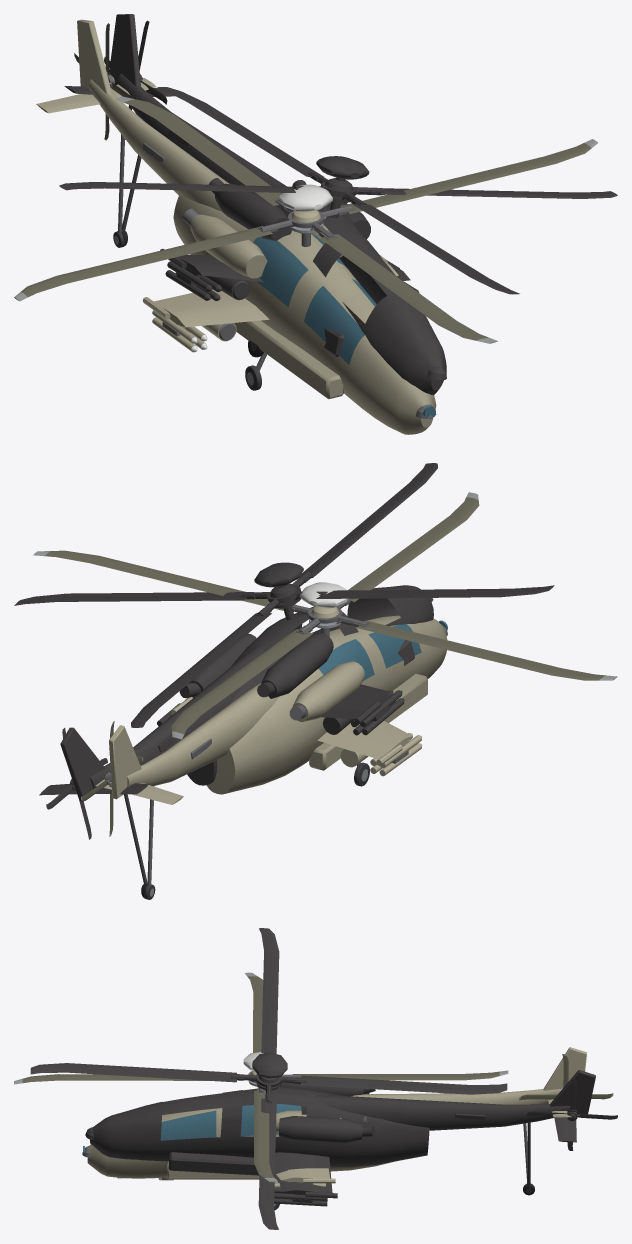
The model's file is gunship__ah_64e_apache.glb.
The picture shows the model from 3 angles, top to bottom: view 1: azimuth 30°, elevation 25°; view 2: azimuth 150°, elevation 25°; view 3: azimuth 270°, elevation 25°; orthographic projection. The views are drawn at different scales.
Parts seen in each view (by area): view 1: Wreck, Fuselage_Mesh, Rotor_Main_Mesh, Stub_Wings_Stores_Mesh, Engines_Mesh, Rotor_Mast_Mesh, Landing_Gear_Mesh, Rotor_Tail_Mesh; view 2: Wreck, Fuselage_Mesh, Rotor_Main_Mesh, Stub_Wings_Stores_Mesh, Engines_Mesh, Landing_Gear_Mesh, Rotor_Mast_Mesh; view 3: Wreck, Fuselage_Mesh, Rotor_Main_Mesh, Stub_Wings_Stores_Mesh, Rotor_Tail_Mesh.
Part boxes in pixels (x1,y1,x2,y2): Wreck: (59, 14, 617, 394); Fuselage_Mesh: (36, 19, 436, 434); Rotor_Main_Mesh: (14, 96, 597, 343); Stub_Wings_Stores_Mesh: (142, 255, 398, 352); Engines_Mesh: (182, 208, 342, 278); Rotor_Mast_Mesh: (279, 184, 332, 246); Landing_Gear_Mesh: (113, 134, 266, 390); Rotor_Tail_Mesh: (74, 23, 139, 140); Wreck: (14, 463, 554, 897); Fuselage_Mesh: (70, 615, 447, 804); Rotor_Main_Mesh: (33, 492, 617, 739); Stub_Wings_Stores_Mesh: (171, 697, 422, 776); Engines_Mesh: (289, 661, 364, 721); Landing_Gear_Mesh: (143, 762, 369, 899); Rotor_Mast_Mesh: (300, 582, 348, 636); Wreck: (30, 928, 617, 1229); Fuselage_Mesh: (82, 1047, 586, 1179); Rotor_Main_Mesh: (14, 972, 508, 1182); Stub_Wings_Stores_Mesh: (274, 1168, 335, 1188); Rotor_Tail_Mesh: (519, 1054, 613, 1100).
Size of what is drawn, in the model's own units: 15.09 by 5.94 by 17.87.
